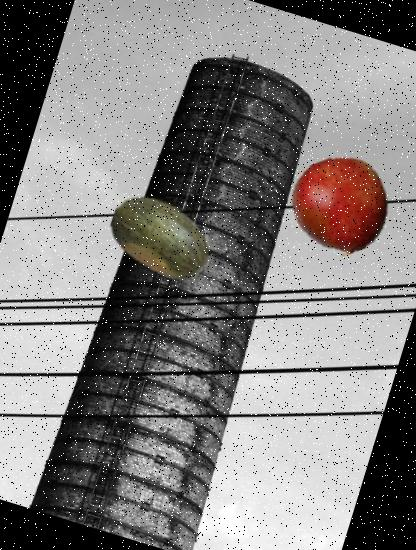Melon: (96, 172, 226, 304)
Nectarine: (280, 145, 402, 267)
